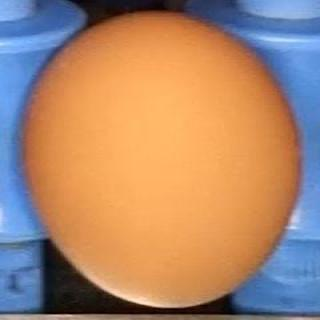Telur: (13, 9, 309, 309)
